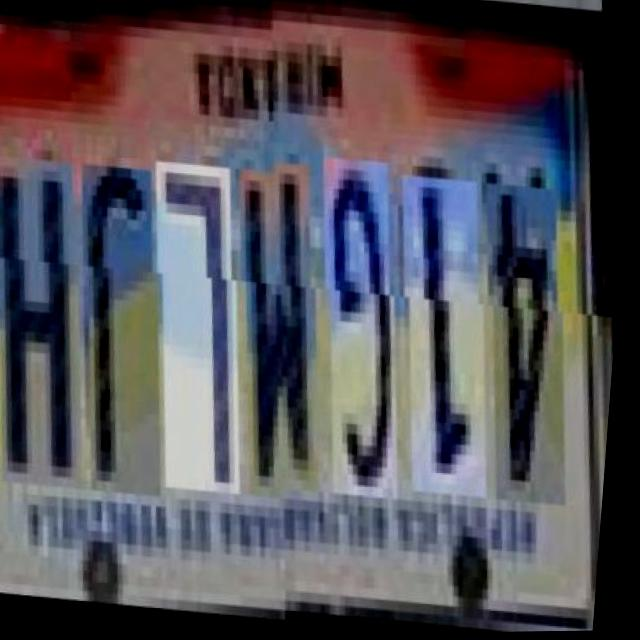1: (394, 179, 510, 503)
4: (479, 186, 590, 509)
g: (314, 164, 423, 506)
h: (0, 159, 105, 493)
j: (73, 165, 184, 499)
l: (146, 161, 264, 495)
m: (231, 167, 343, 501)
